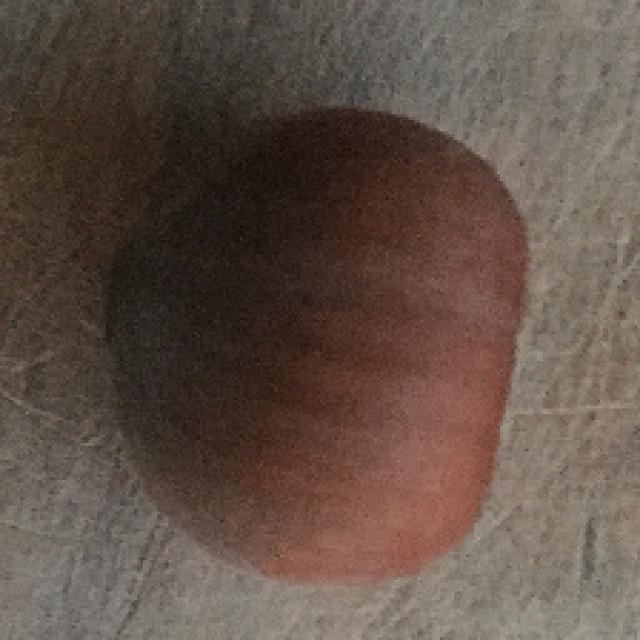QualityHazelnut: (104, 99, 541, 587)
